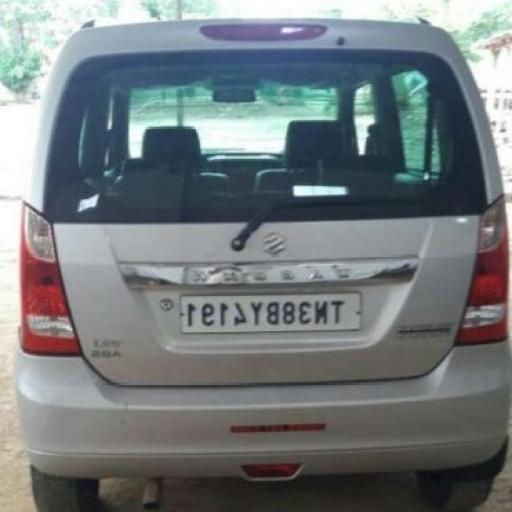License: (168, 282, 370, 334)
